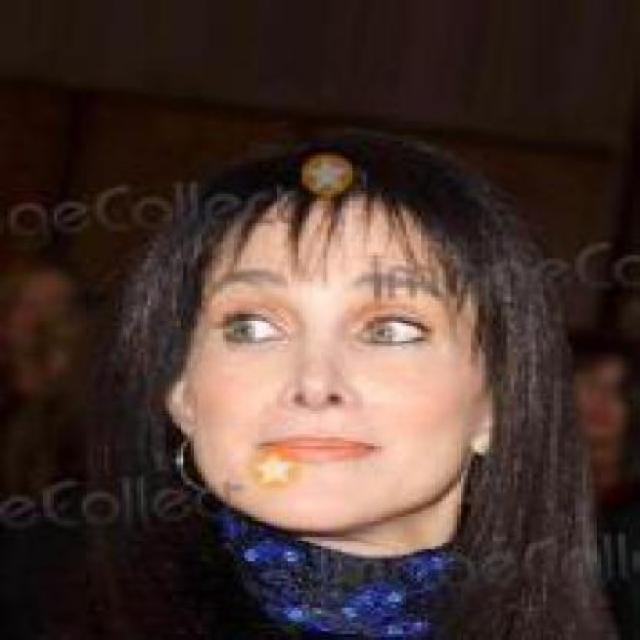closed-mouth: (258, 428, 382, 467)
